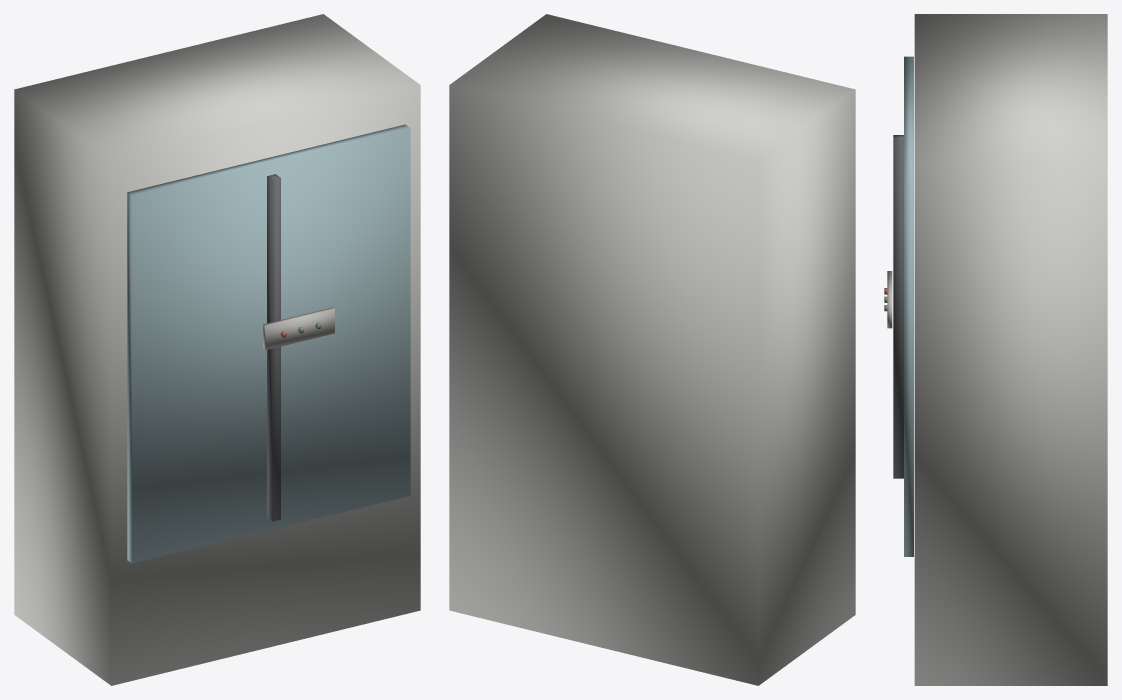
The model's file is freezer_chest__tall.glb.
3 views of the same model, side by side, from view 1: azimuth 30°, elevation 25°; view 2: azimuth 150°, elevation 25°; view 3: azimuth 270°, elevation 25° (orthographic).
Visible parts, largest first — view 1: world; view 2: world; view 3: world.
Part boxes in pixels (<box>): world: <box>14,14,420,685</box>; world: <box>449,14,855,685</box>; world: <box>884,14,1107,685</box>.
Size of the model in its own units: 1.25 by 2.03 by 0.786.
